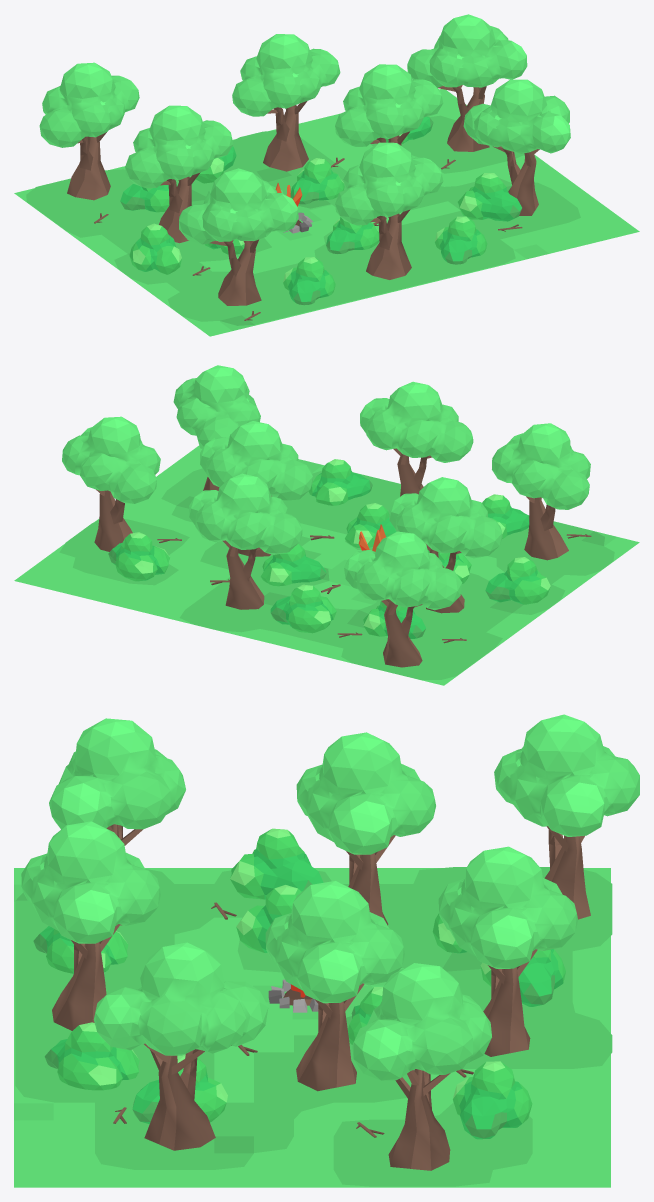
File: grass_2.gltf
3 renders of one model, top to bottom at view 1: azimuth 30°, elevation 25°; view 2: azimuth 150°, elevation 25°; view 3: azimuth 270°, elevation 25°, orthographic. The views are drawn at different scales.
Parts seen in each view (by area): view 1: forest_level_2, shadow_grass_level_2, grass_level_2, cysts_level_2, fire; view 2: forest_level_2, shadow_grass_level_2, grass_level_2, cysts_level_2, vetka_2; view 3: forest_level_2, shadow_grass_level_2, grass_level_2, cysts_level_2, fire.
Part boxes in pixels (x1=…): forest_level_2: x1=39, y1=14, x2=570, y2=305; shadow_grass_level_2: x1=26, y1=115, x2=580, y2=325; grass_level_2: x1=14, y1=89, x2=639, y2=336; cysts_level_2: x1=120, y1=116, x2=521, y2=305; fire: x1=275, y1=183, x2=312, y2=233; forest_level_2: x1=62, y1=365, x2=590, y2=667; shadow_grass_level_2: x1=59, y1=468, x2=614, y2=679; grass_level_2: x1=14, y1=445, x2=639, y2=685; cysts_level_2: x1=108, y1=459, x2=550, y2=638; vetka_2: x1=157, y1=534, x2=591, y2=643; forest_level_2: x1=21, y1=714, x2=639, y2=1170; shadow_grass_level_2: x1=15, y1=867, x2=612, y2=1186; grass_level_2: x1=14, y1=868, x2=610, y2=1187; cysts_level_2: x1=33, y1=828, x2=565, y2=1139; fire: x1=268, y1=979, x2=318, y2=1012.
Bounding box in the file's own units: 18.11 × 5.36 × 14.74.
